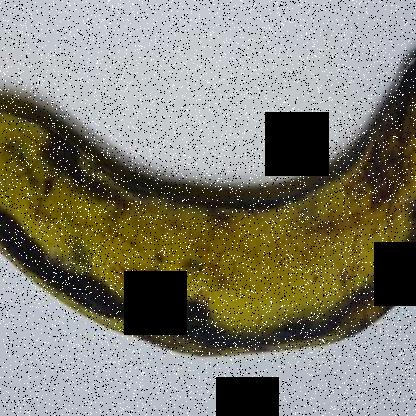overripe: (0, 28, 415, 388)
